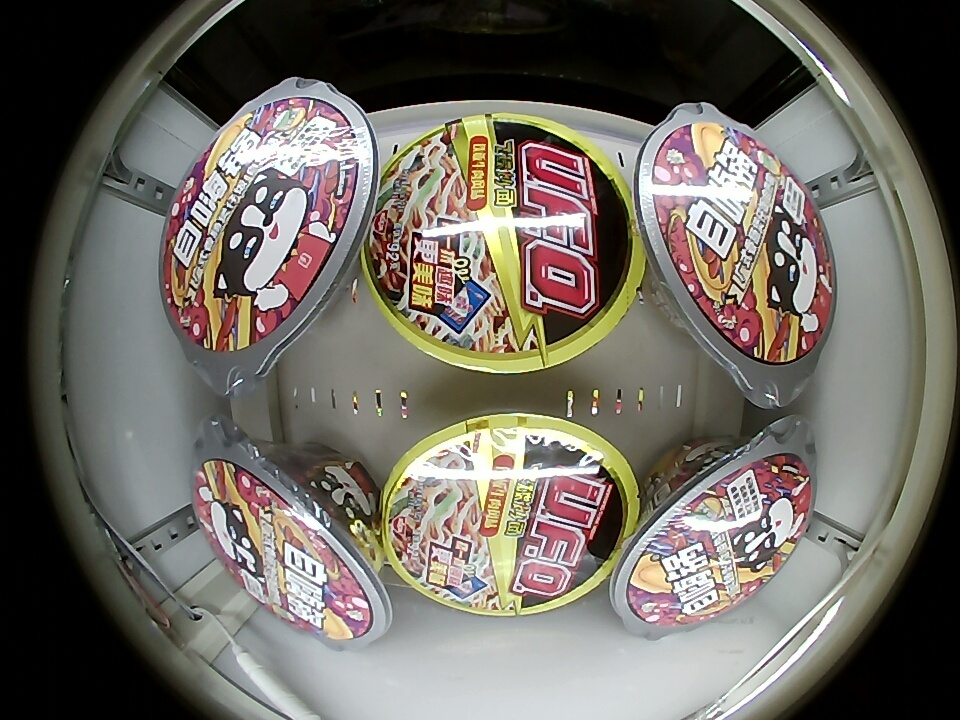ufo: (360, 114, 645, 374), (380, 411, 636, 617)
zihaiguo: (164, 96, 359, 354), (652, 123, 834, 365), (195, 458, 375, 640), (626, 454, 810, 624)
